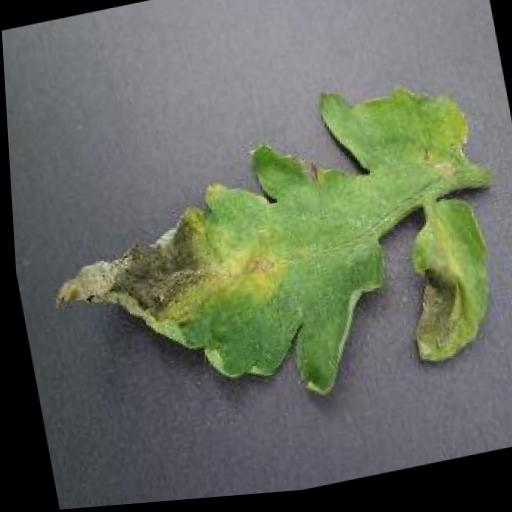Late Blight: (27, 72, 510, 447)
